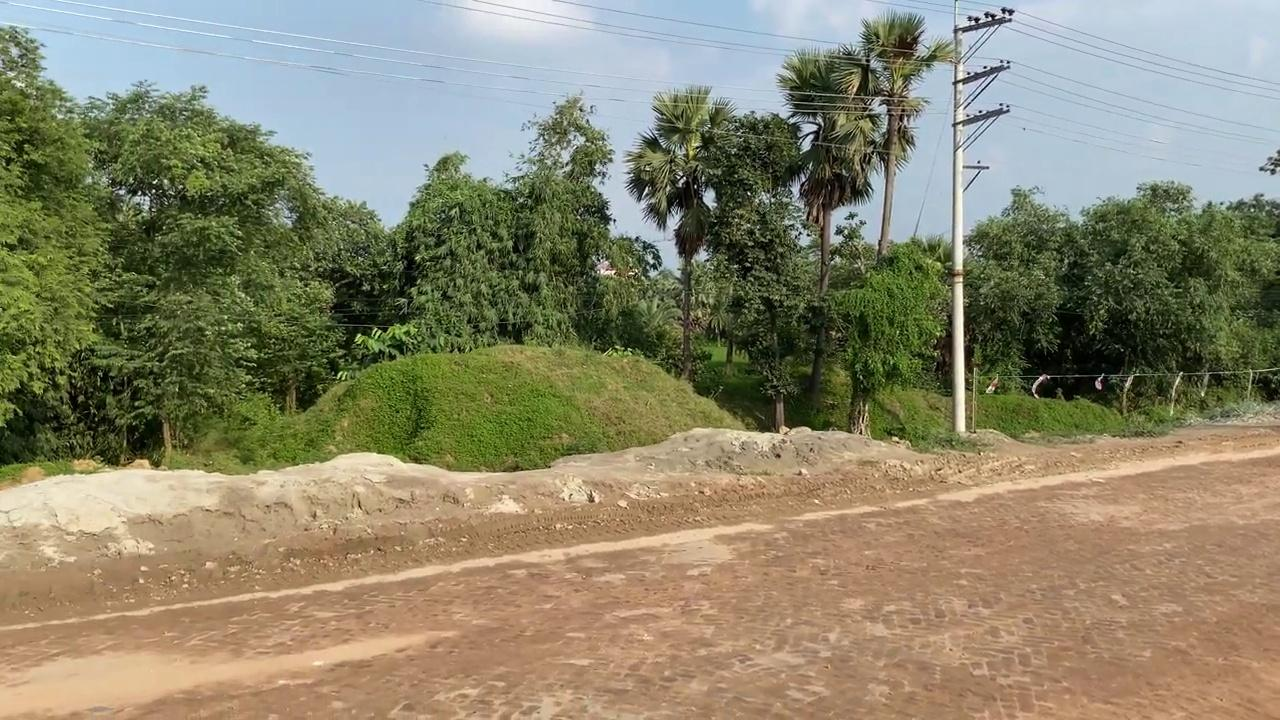Light-pole: (947, 3, 1014, 434)
Pole: (949, 2, 967, 434)
Traffic-sign: (774, 47, 884, 410), (622, 83, 739, 383)
